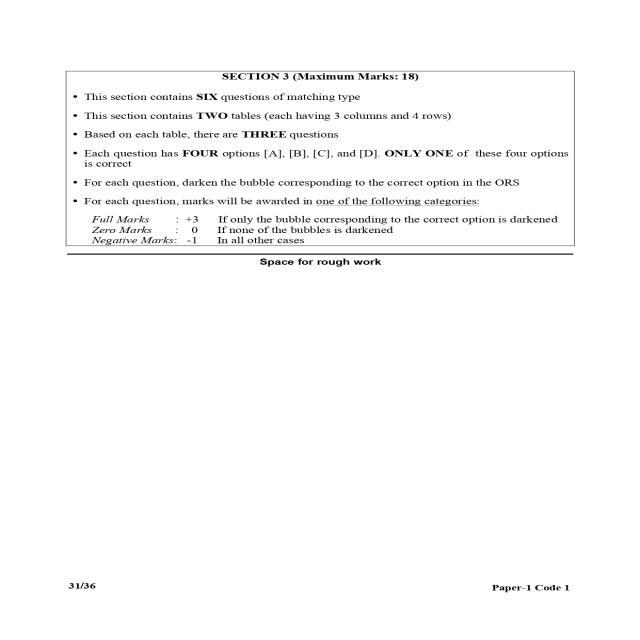Instruction: (37, 62, 610, 283)
Question_Paper_Area: (37, 29, 610, 567)
